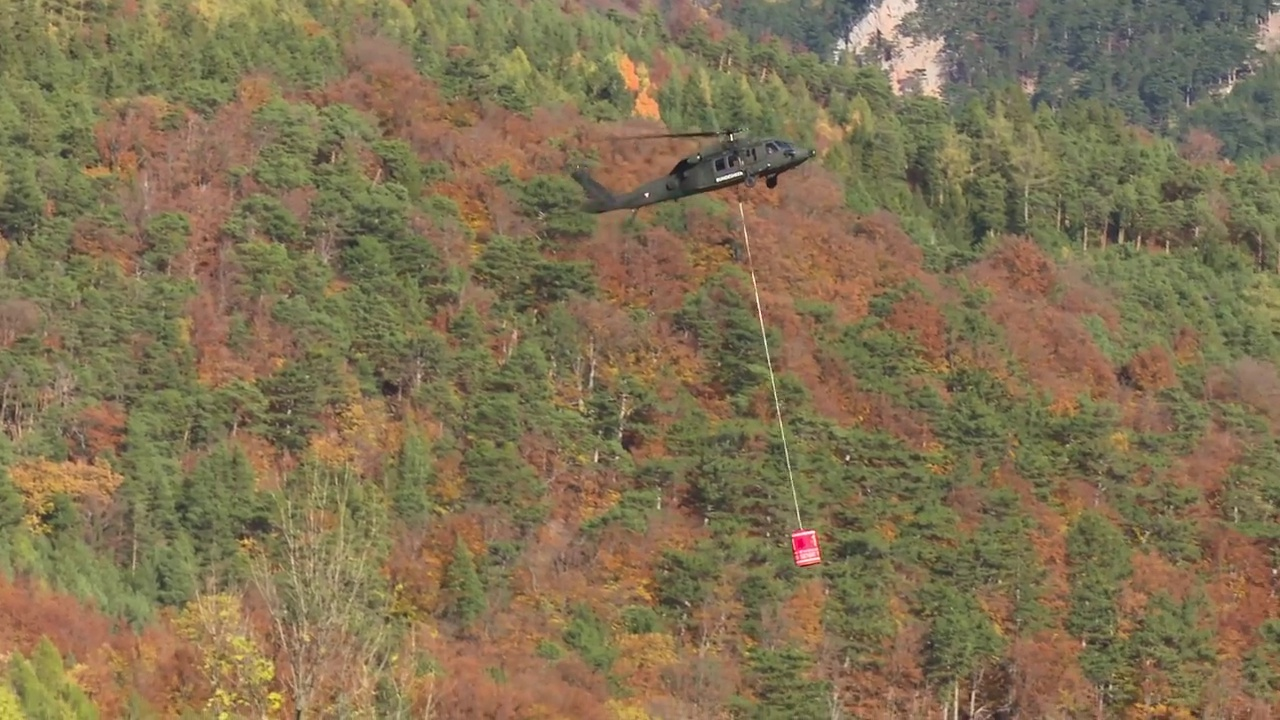heli: (572, 130, 817, 216)
